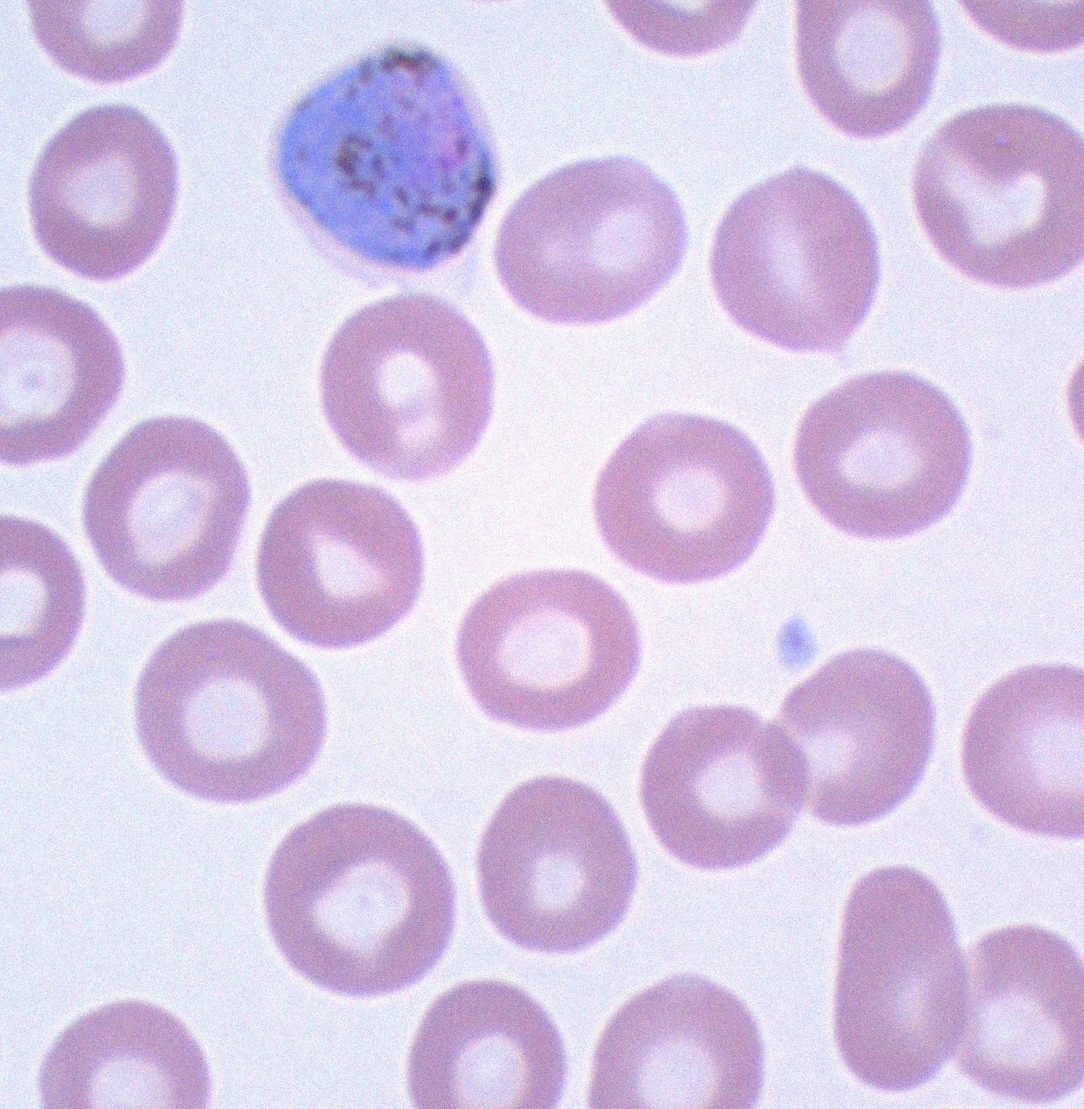Infected: (269, 39, 492, 288)
Uninfected: (265, 801, 459, 994), (490, 152, 692, 329), (134, 620, 326, 806), (320, 297, 497, 480), (709, 168, 884, 352), (594, 414, 778, 585), (83, 419, 252, 602), (912, 103, 1080, 286), (793, 369, 973, 539), (834, 865, 969, 1089), (458, 570, 641, 731), (776, 650, 937, 827), (254, 481, 422, 650), (476, 778, 636, 952), (640, 705, 810, 867), (29, 102, 182, 280), (959, 925, 1081, 1098), (798, 2, 942, 139)
